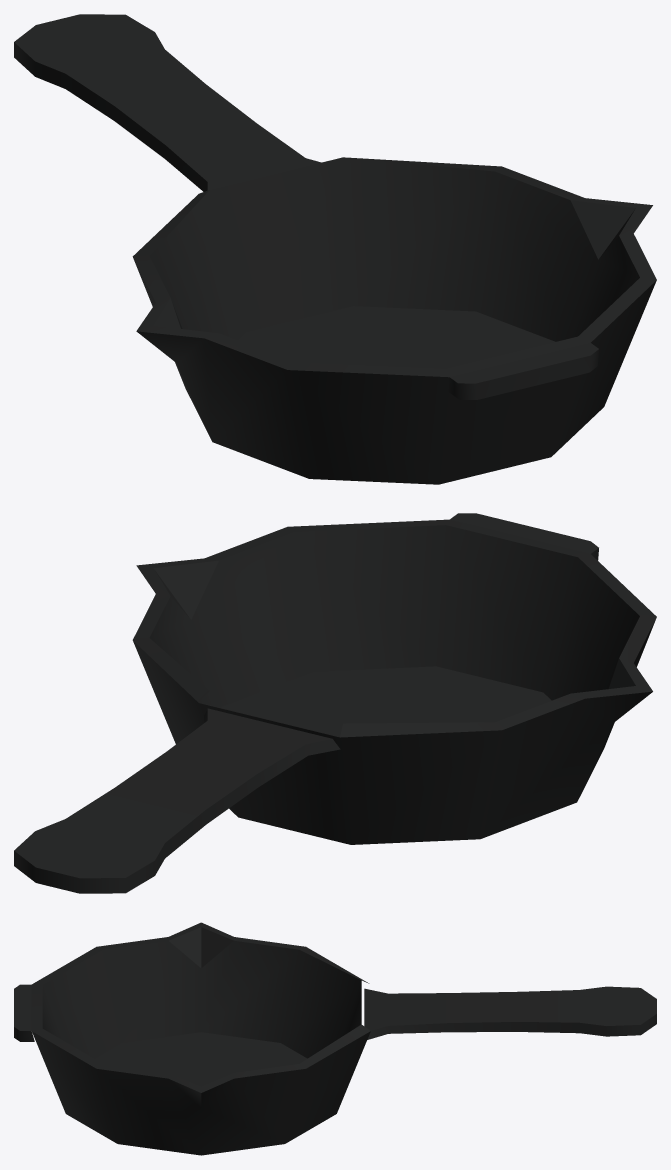
Rendered from cooking_assets_cast_iron_skillet.glb.
The picture shows the model from 3 angles, top to bottom: view 1: azimuth 30°, elevation 25°; view 2: azimuth 150°, elevation 25°; view 3: azimuth 270°, elevation 25°; orthographic projection. The views are drawn at different scales.
Visible parts, largest first — view 1: pan_cast_iron_skillet_Cylinder.049; view 2: pan_cast_iron_skillet_Cylinder.049; view 3: pan_cast_iron_skillet_Cylinder.049.
Boxes of the visible parts, x1=… form: pan_cast_iron_skillet_Cylinder.049: x1=14, y1=14, x2=656, y2=484; pan_cast_iron_skillet_Cylinder.049: x1=14, y1=513, x2=656, y2=893; pan_cast_iron_skillet_Cylinder.049: x1=14, y1=922, x2=656, y2=1155.
Size of the model in its own units: 3.65 by 0.9257 by 5.8.
1 material, 1 textured.
